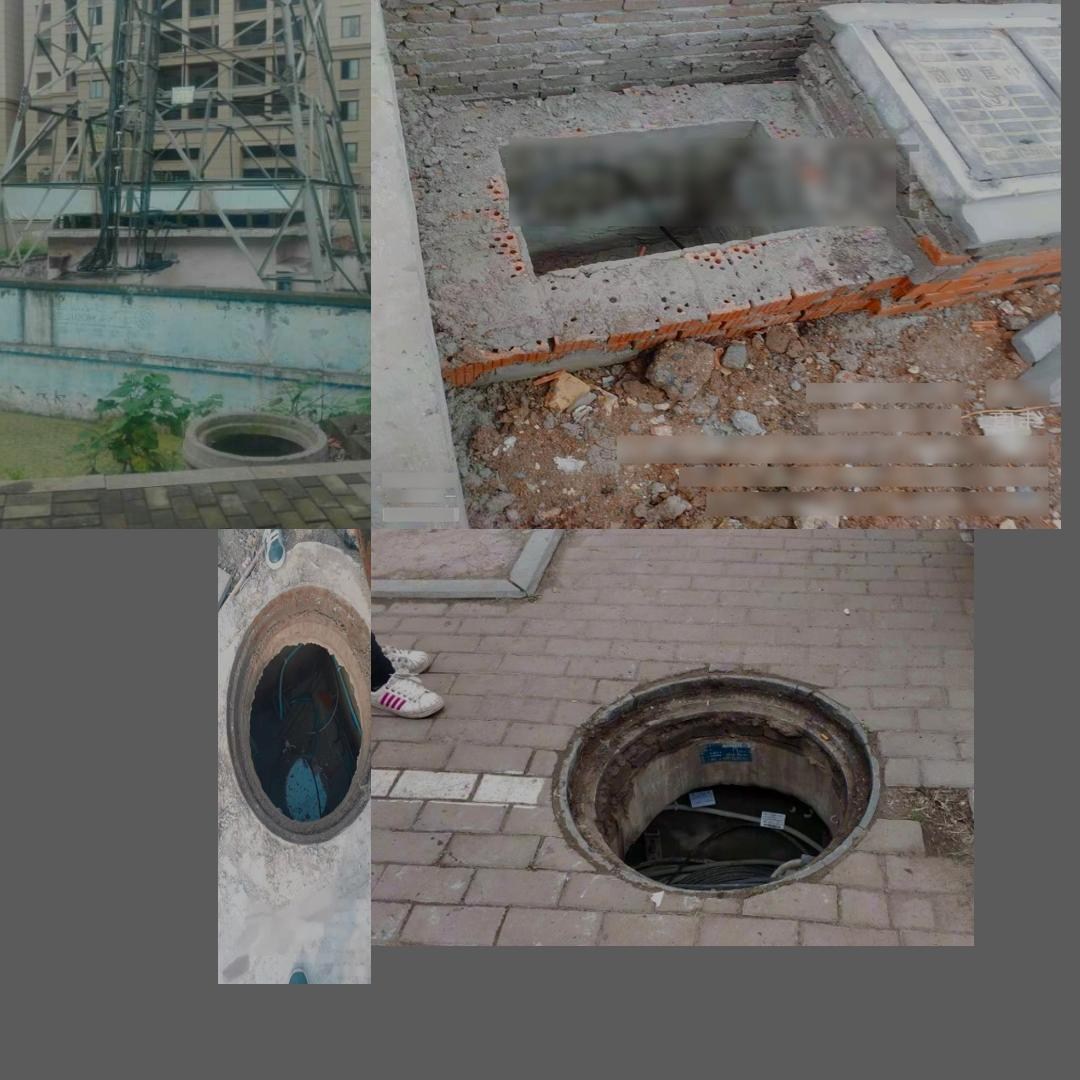lose: (545, 653, 893, 899), (494, 115, 829, 279), (226, 582, 369, 847), (176, 400, 335, 458)
